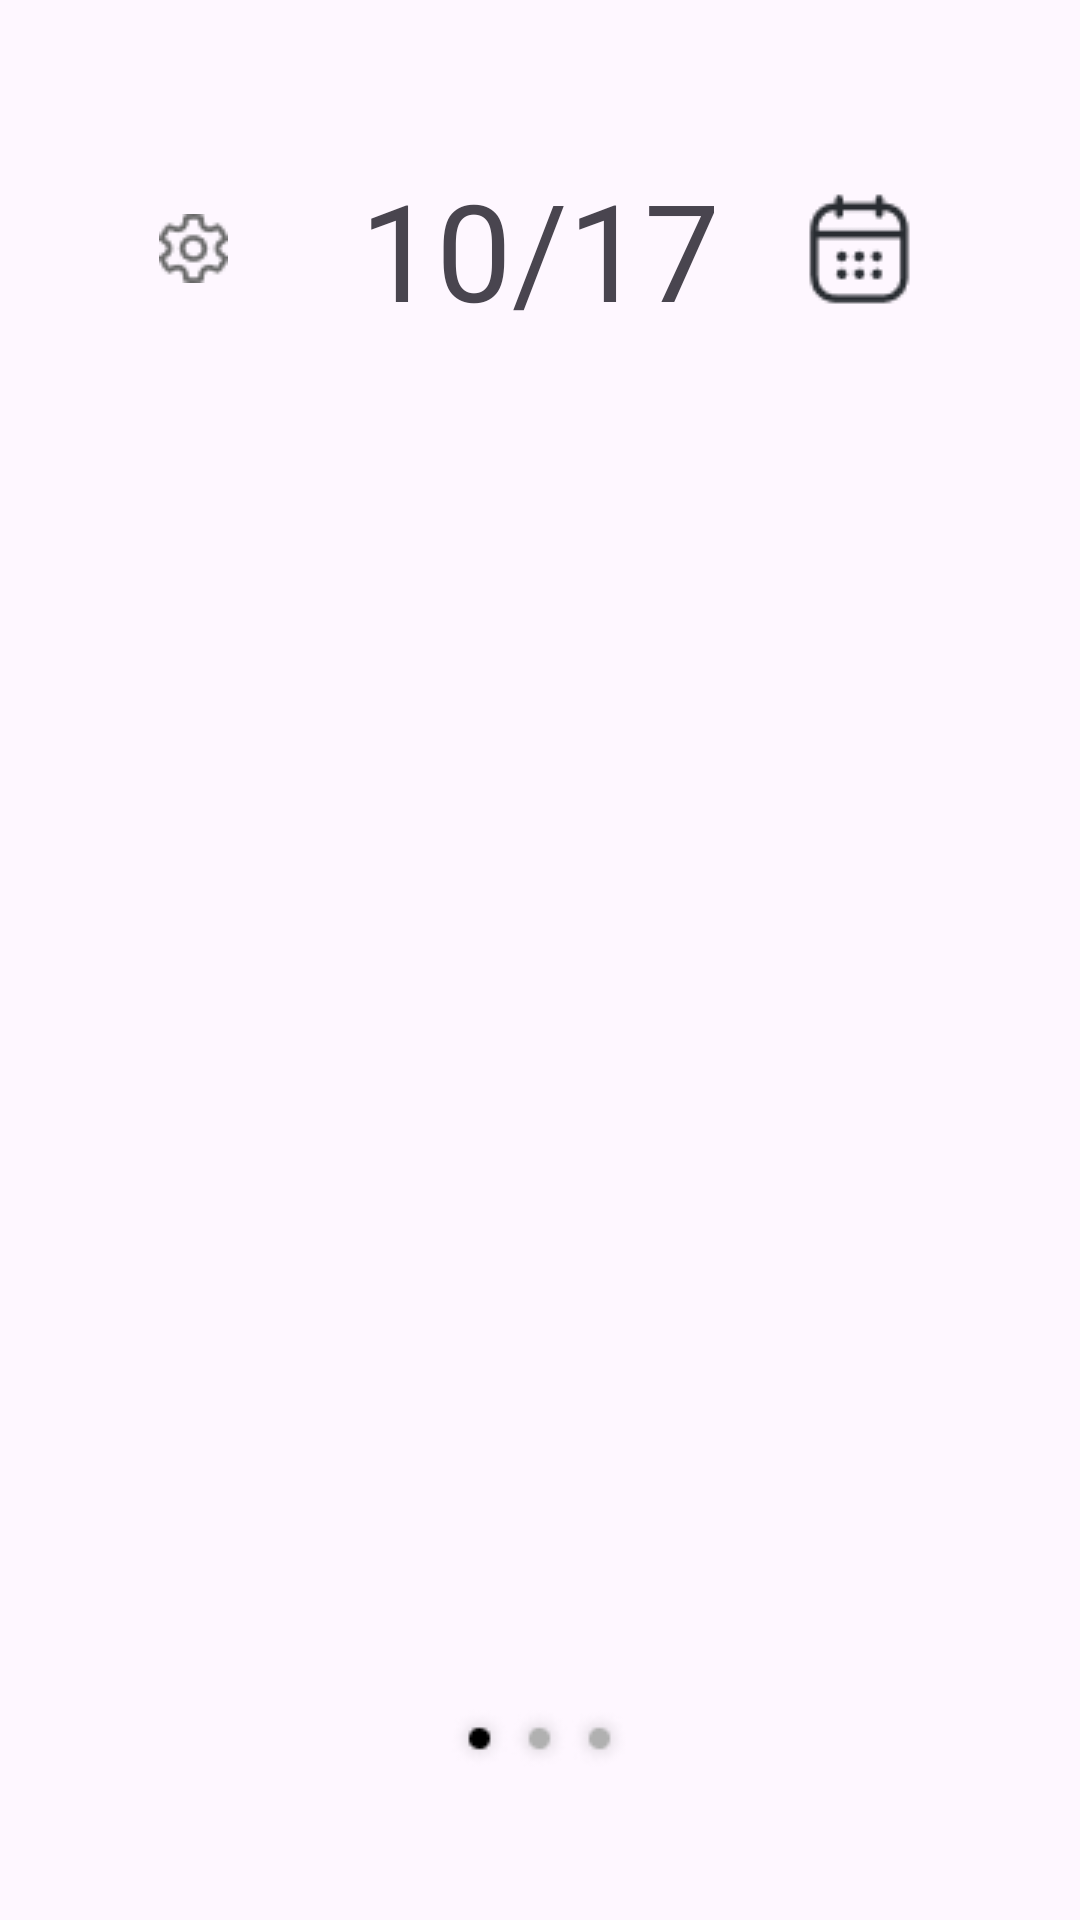

Screen size 1080px×1920px. Icon name, then its box in pixels as (x1, y1, x2, y2):
calendar: (809, 194, 910, 304)
settingbutton: (159, 214, 228, 283)
